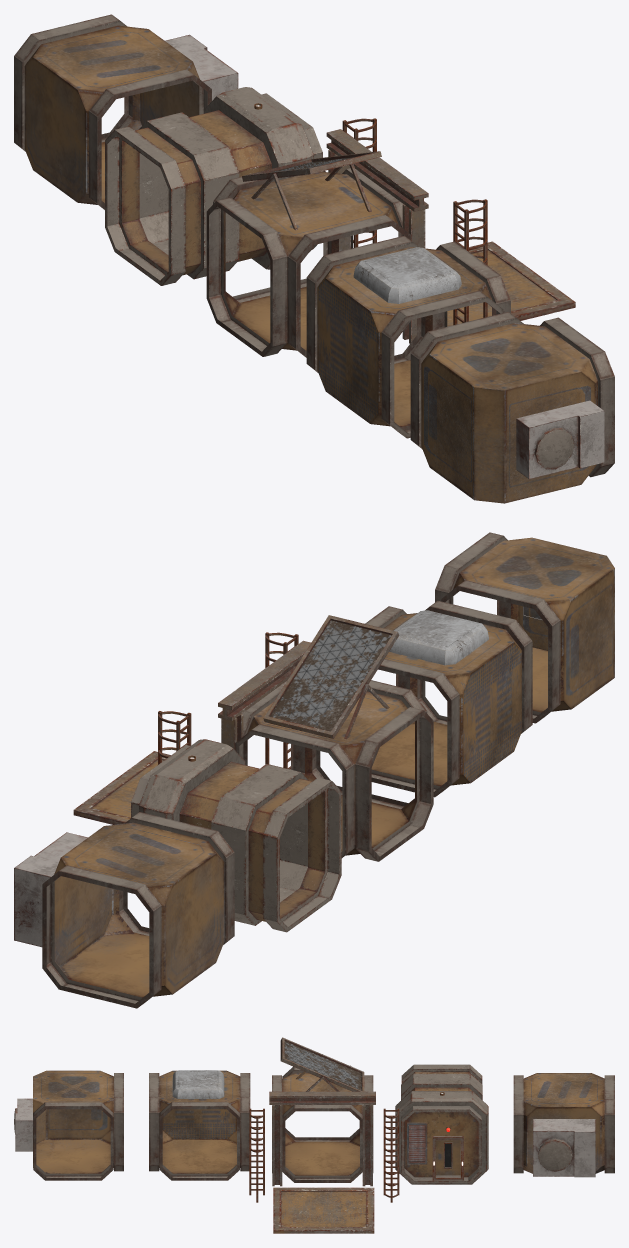
Rendered from projects.glb.
The picture shows the model from 3 angles, top to bottom: view 1: azimuth 30°, elevation 25°; view 2: azimuth 150°, elevation 25°; view 3: azimuth 270°, elevation 25°; orthographic projection. The views are drawn at different scales.
Visible parts, largest first — view 1: CornerCell_Material #1_0, EndCapCell_Material #46_0, Line Cell_Material #1_0, CrossCell_Material #1_0, TCell_Material #1_0, small ac_Material #46_0, skylight_Material #46_0, floor_Material #46_0, horizontal_Material #46_0, solarpanel_Material #46_0, large ac_Material #46_0, ladder in_Material #1_0 (+2 smaller); view 2: Line Cell_Material #1_0, EndCapCell_Material #46_0, CornerCell_Material #1_0, TCell_Material #1_0, CrossCell_Material #1_0, solarpanel_Material #46_0, skylight_Material #46_0, large ac_Material #46_0, floor_Material #46_0, horizontal_Material #46_0, ladder_Material #1_0, ladder in_Material #1_0; view 3: CornerCell_Material #1_0, TCell_Material #1_0, EndCapCell_Material #46_0, Line Cell_Material #1_0, CrossCell_Material #1_0, floor_Material #46_0, large ac_Material #46_0, solarpanel_Material #46_0, horizontal_Material #46_0, skylight_Material #46_0, door_Material #1_0, ladder_Material #1_0 (+5 smaller).
Boxes of the visible parts, x1,y1,x2,y2 form: CornerCell_Material #1_0: (410, 312, 614, 503); EndCapCell_Material #46_0: (105, 87, 322, 285); Line Cell_Material #1_0: (14, 14, 211, 209); CrossCell_Material #1_0: (206, 168, 410, 357); TCell_Material #1_0: (306, 235, 510, 438); small ac_Material #46_0: (516, 400, 604, 479); skylight_Material #46_0: (353, 247, 461, 303); floor_Material #46_0: (447, 241, 575, 326); horizontal_Material #46_0: (326, 129, 428, 211); solarpanel_Material #46_0: (242, 151, 381, 230); large ac_Material #46_0: (165, 34, 238, 100); ladder in_Material #1_0: (453, 199, 487, 324); Line Cell_Material #1_0: (42, 812, 234, 1008); EndCapCell_Material #46_0: (131, 739, 341, 932); CornerCell_Material #1_0: (435, 532, 614, 723); TCell_Material #1_0: (365, 601, 532, 797); CrossCell_Material #1_0: (235, 680, 433, 861); solarpanel_Material #46_0: (263, 615, 399, 739); skylight_Material #46_0: (389, 610, 488, 665); large ac_Material #46_0: (14, 832, 87, 947); floor_Material #46_0: (73, 751, 170, 824); horizontal_Material #46_0: (218, 640, 310, 720); ladder_Material #1_0: (158, 711, 191, 764); ladder in_Material #1_0: (265, 632, 298, 769); CornerCell_Material #1_0: (33, 1070, 123, 1180); TCell_Material #1_0: (149, 1070, 250, 1180); EndCapCell_Material #46_0: (395, 1064, 488, 1184); Line Cell_Material #1_0: (513, 1073, 614, 1173); CrossCell_Material #1_0: (272, 1065, 373, 1182); floor_Material #46_0: (273, 1187, 374, 1233); large ac_Material #46_0: (533, 1119, 595, 1177); solarpanel_Material #46_0: (280, 1037, 364, 1091); horizontal_Material #46_0: (269, 1091, 375, 1104); skylight_Material #46_0: (172, 1070, 224, 1098); door_Material #1_0: (432, 1136, 463, 1180); ladder_Material #1_0: (383, 1108, 399, 1202).
Size of the model in its own units: 169 by 107 by 485.
Materials: 4 (4 with a texture image).
